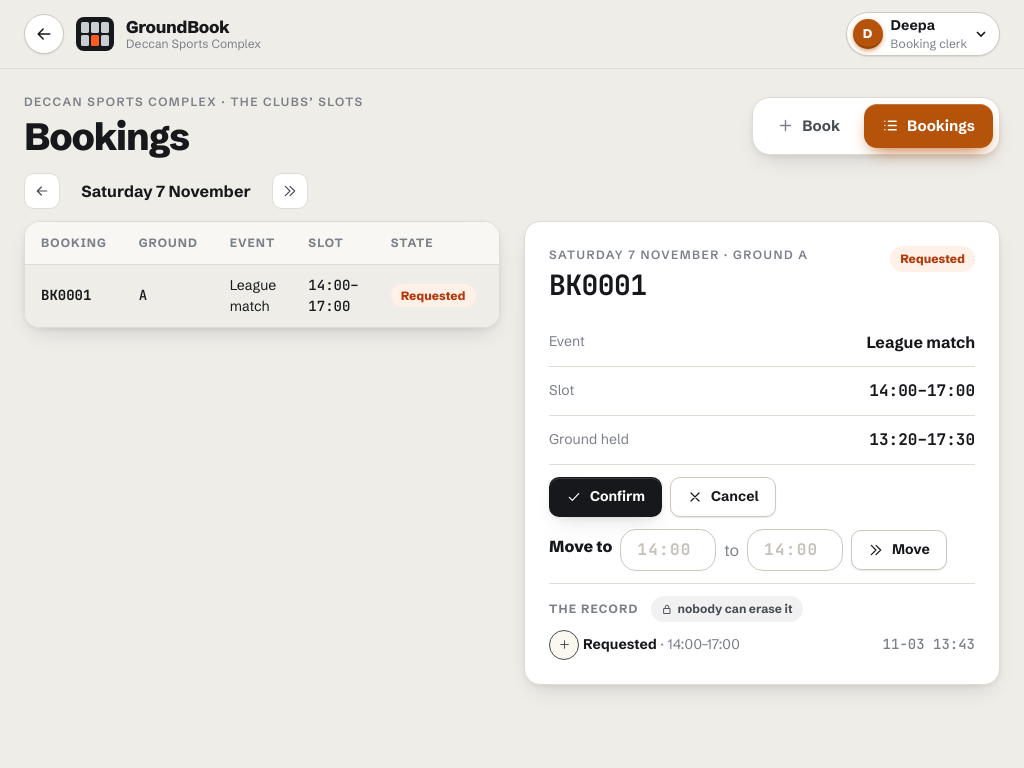
Scenario: F-09 · Moving a booking › Move 25:00 to 16:00 says "Write the start time in 24-hour form, like 09:00 or 14:00."
Check: the table is shown, box x1=25 y1=222 x2=500 y2=327
Type "25:00" into the field named "Move from". click: [668, 550]
box: x1=621 y1=530 x2=715 y2=570
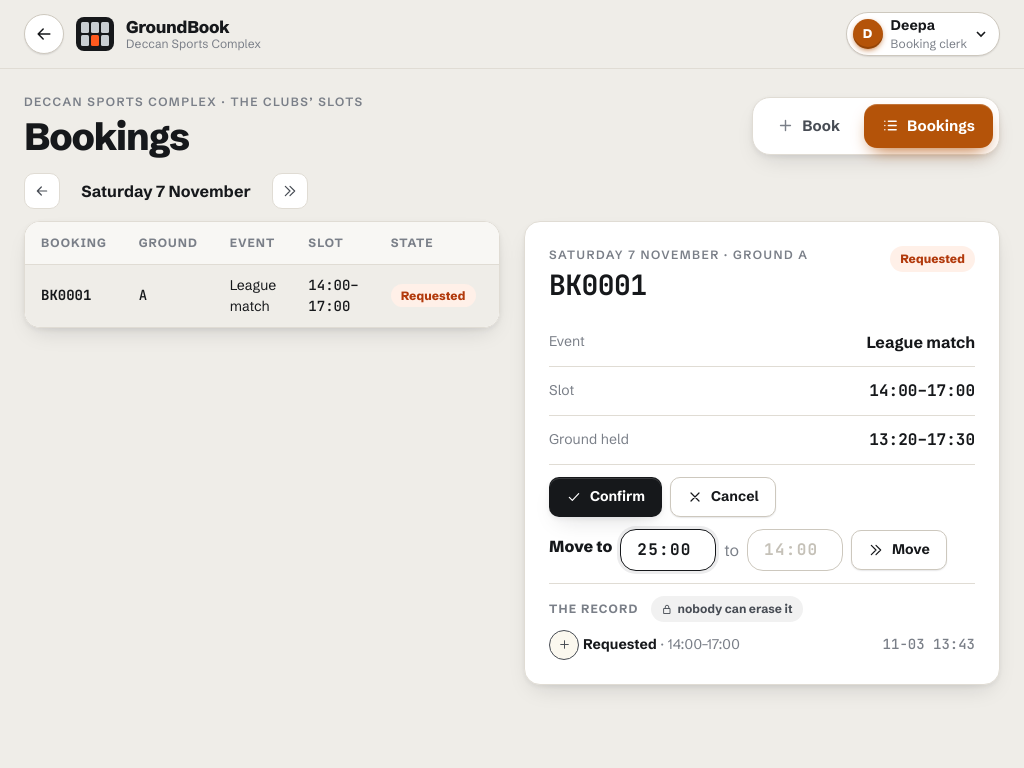
Type "16:00" into the field named "Move to". click: [795, 550]
box: x1=748 y1=530 x2=842 y2=570
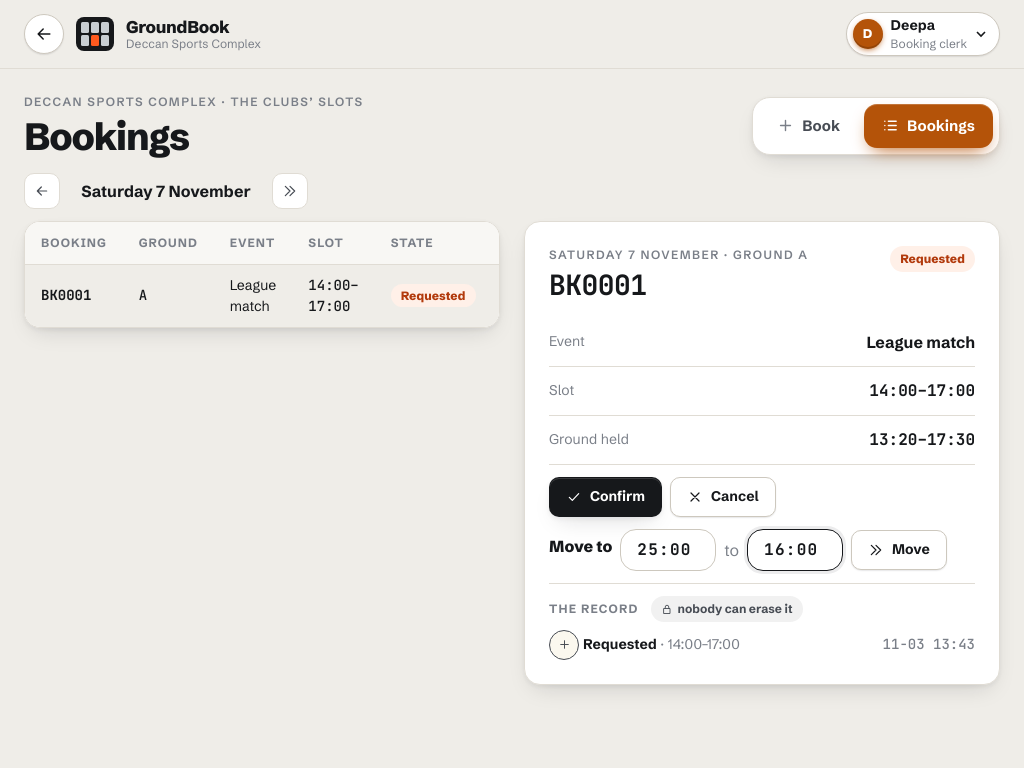
Click the button "Move". click: [899, 550]
box: x1=851 y1=530 x2=947 y2=570
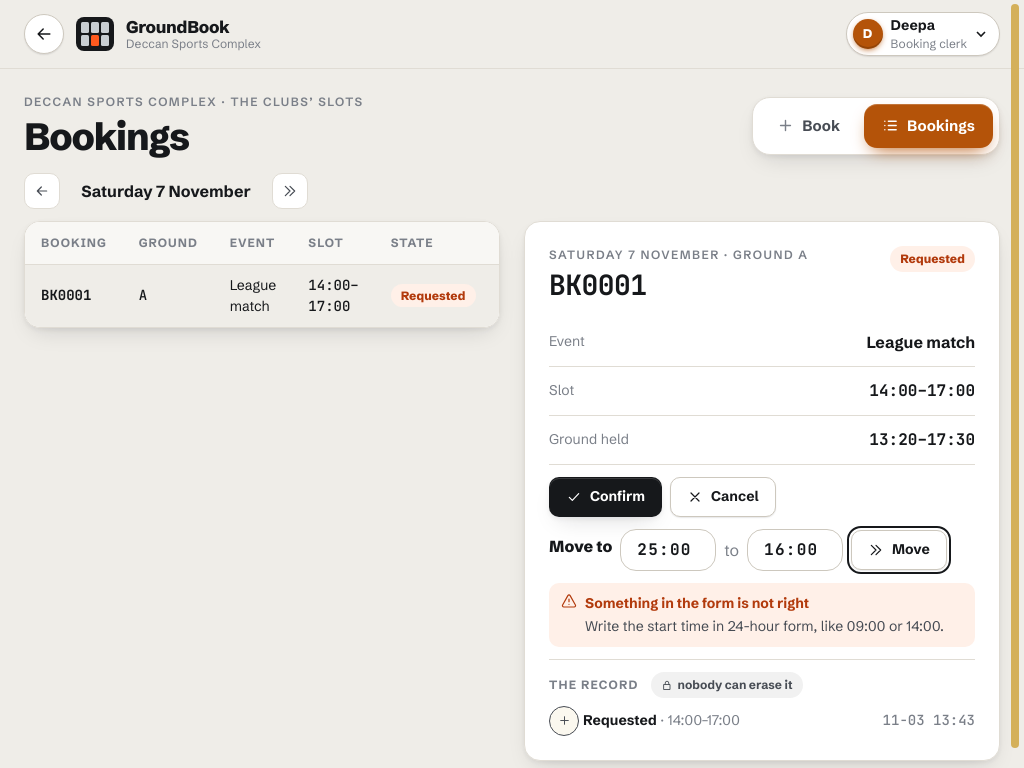
Check: the text "Something in the form is not right" is shown, box x1=585 y1=594 x2=809 y2=612
Check: the text "Write the start time in 24-hour form, like 09:00 or 14:00." is shown, box x1=585 y1=616 x2=944 y2=637
